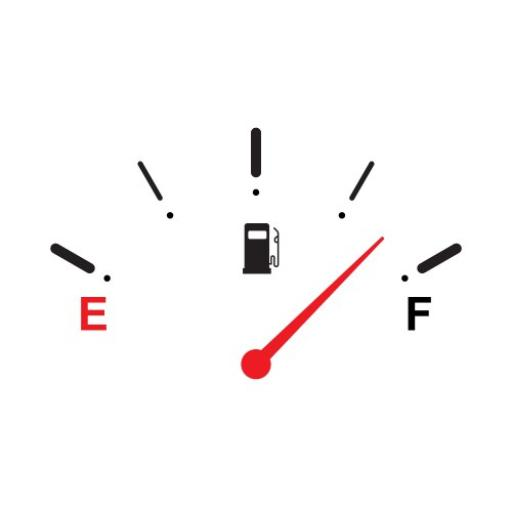empty: (78, 294, 110, 342)
fuel_icon: (238, 217, 282, 284)
full: (401, 292, 432, 334)
guage_area: (46, 128, 466, 392)
needle_center: (237, 337, 284, 386)
needle_tip: (357, 232, 390, 260)
